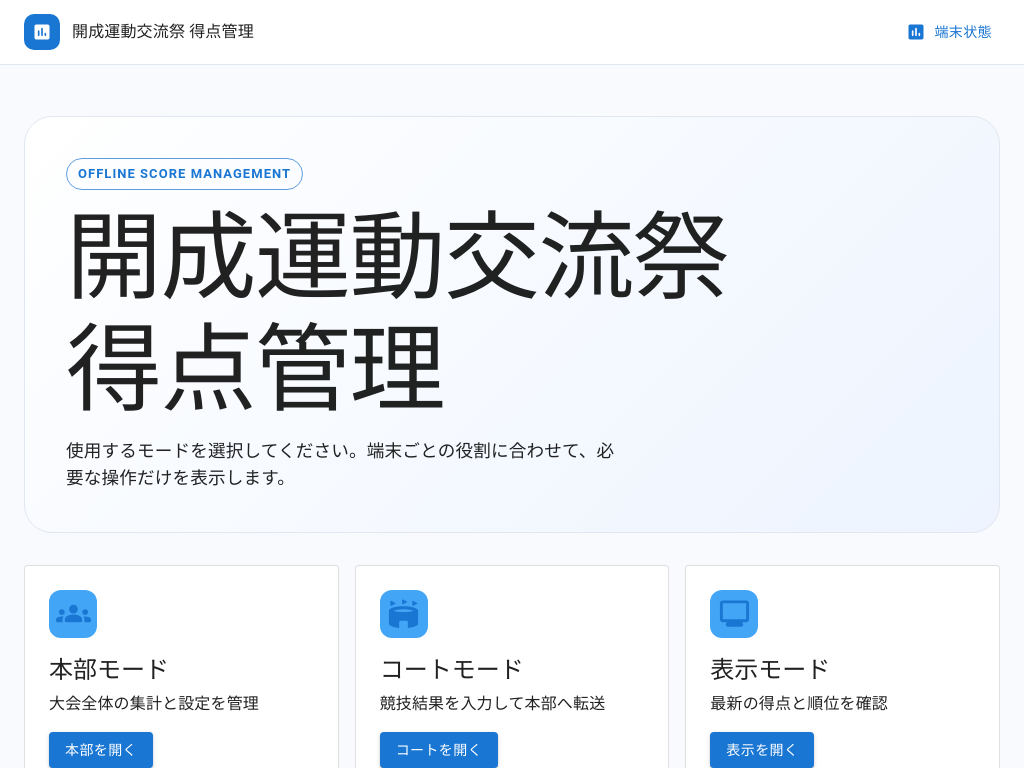
App › keeps Court mode on the existing QR transfer flow
Click the button with aria-label "コートモード" at [439, 750], box x1=380 y1=732 x2=498 y2=767
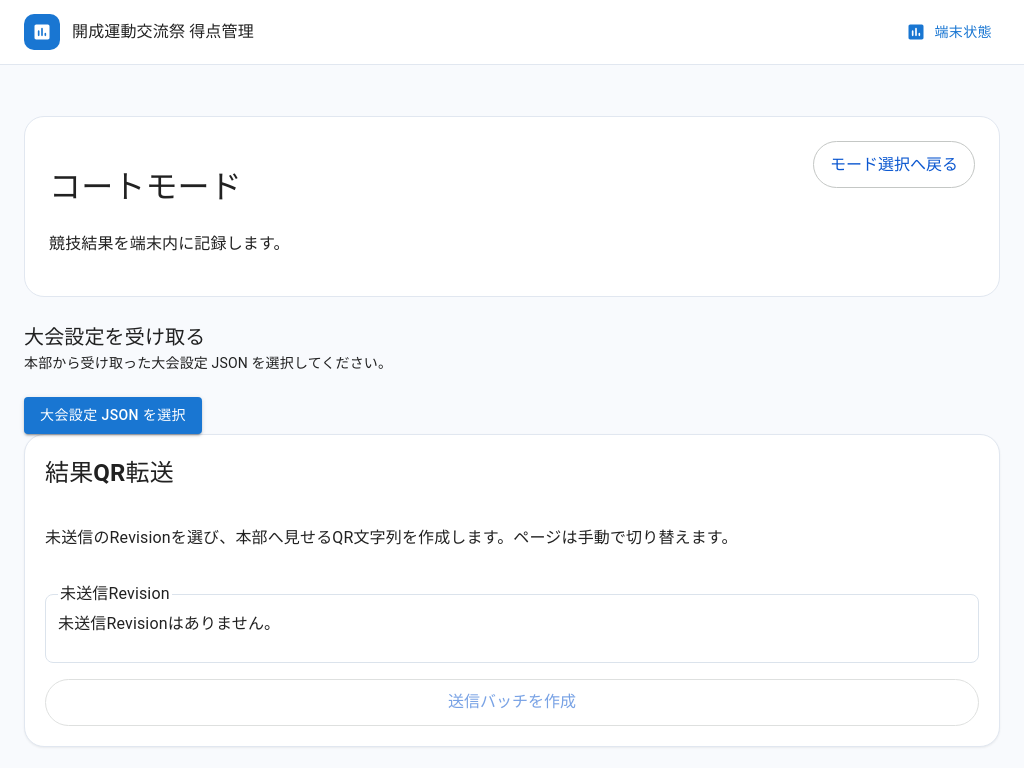
Result: the heading "結果QR転送" is shown at x1=45 y1=459 x2=174 y2=487
